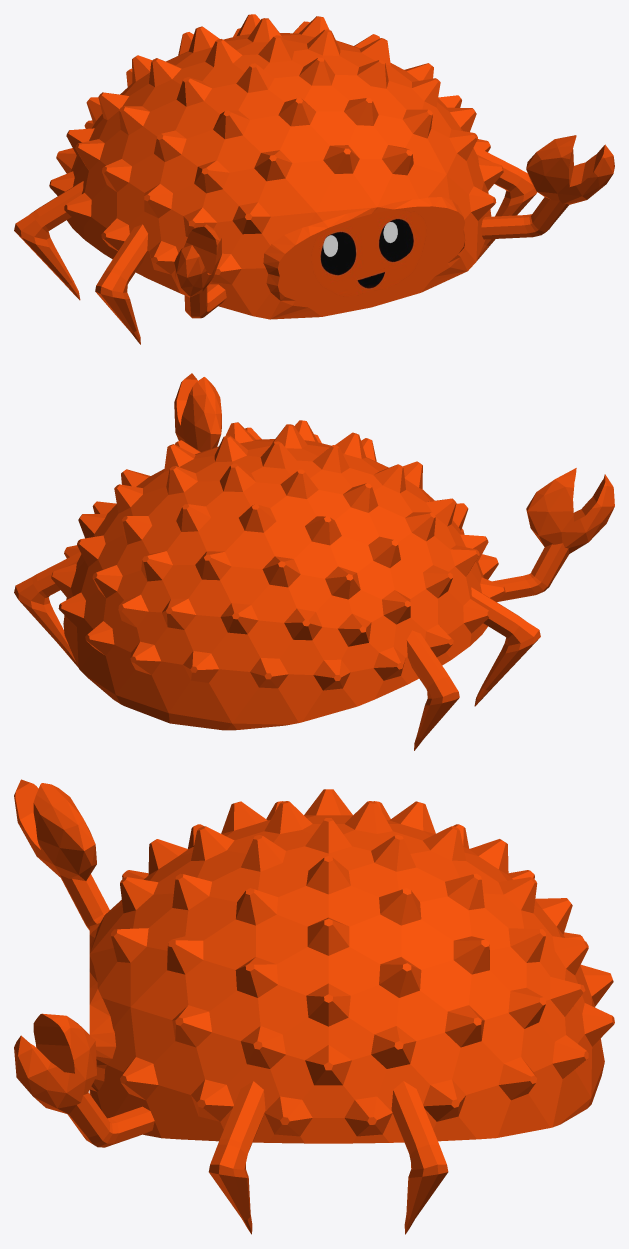
Rendered from ferris.glb.
3 views of the same model, one above another, from view 1: azimuth 30°, elevation 25°; view 2: azimuth 150°, elevation 25°; view 3: azimuth 270°, elevation 25° (orthographic). The views are drawn at different scales.
Parts seen in each view (by area): view 1: ferris; view 2: ferris; view 3: ferris.
Part boxes in pixels (bbox=[...]): ferris: bbox=[14, 14, 614, 344]; ferris: bbox=[14, 373, 614, 750]; ferris: bbox=[14, 779, 614, 1234].
Size of the model in its own units: 0.5559 by 0.2953 by 0.5172.
1 material, 1 textured.
